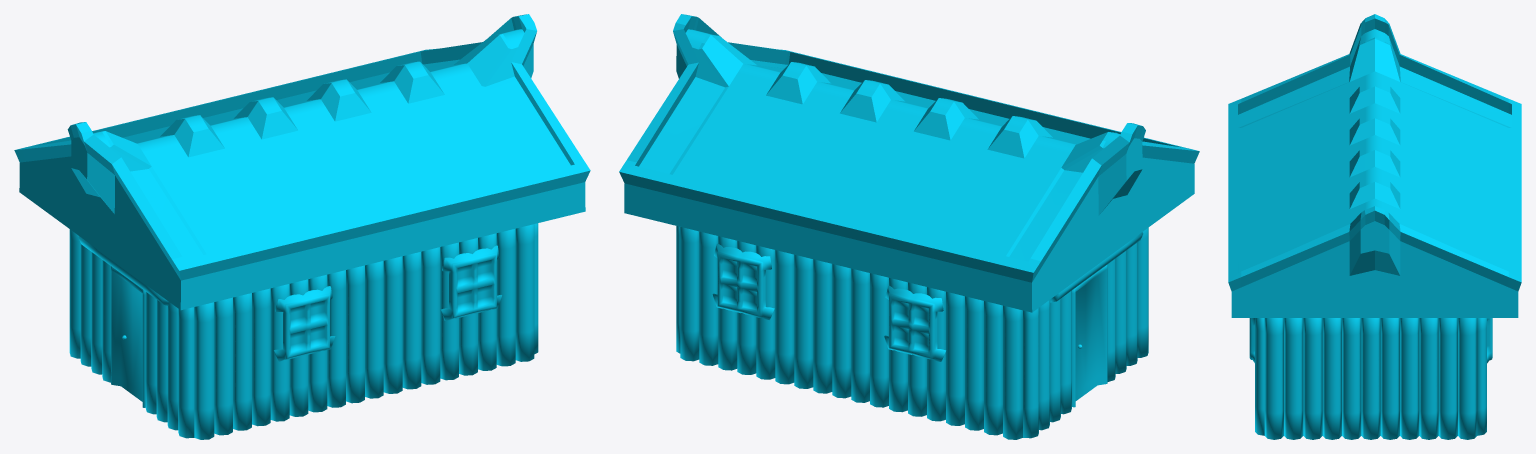
The model's file is LogHouse Final.fbx.
3 renders of one model, left to right at view 1: azimuth 30°, elevation 25°; view 2: azimuth 150°, elevation 25°; view 3: azimuth 270°, elevation 25°, orthographic. The views are drawn at different scales.
Parts seen in each view (by area): view 1: Roof_low, Door_low, Window_low001, Window_low, Beam_low, Beam_low011, Beam_low012, Beam_low017, Beam_low010, Beam_low016, Beam_low009, Beam_low002 (+20 smaller); view 2: Roof_low, Door_low, Window_low002, Window_low003, Beam_low036, Beam_low034, Beam_low029, Beam_low037, Beam_low046, Beam_low035, Beam_low044, Beam_low038 (+20 smaller); view 3: Roof_low, Beam_low018, Beam_low019, Beam_low021, Beam_low022, Beam_low024, Beam_low025, Beam_low027, Beam_low028, Beam_low023, Beam_low026, Beam_low020 (+2 smaller).
Boxes of the visible parts, left/top/right/bottom form: Roof_low: left=14, top=14, right=590, bottom=310; Door_low: left=111, top=266, right=145, bottom=407; Window_low001: left=440, top=245, right=501, bottom=320; Window_low: left=274, top=286, right=335, bottom=361; Beam_low: left=194, top=302, right=214, bottom=439; Beam_low011: left=402, top=252, right=421, bottom=389; Beam_low012: left=421, top=247, right=440, bottom=384; Beam_low017: left=515, top=224, right=534, bottom=361; Beam_low010: left=383, top=256, right=402, bottom=393; Beam_low016: left=496, top=228, right=515, bottom=366; Beam_low009: left=365, top=261, right=383, bottom=398; Beam_low002: left=233, top=293, right=251, bottom=430; Roof_low: left=619, top=14, right=1199, bottom=312; Door_low: left=1072, top=264, right=1107, bottom=407; Window_low002: left=712, top=243, right=774, bottom=319; Window_low003: left=884, top=285, right=945, bottom=361; Beam_low036: left=813, top=259, right=832, bottom=393; Beam_low034: left=775, top=250, right=794, bottom=384; Beam_low029: left=680, top=227, right=699, bottom=361; Beam_low037: left=832, top=264, right=851, bottom=398; Beam_low046: left=1003, top=305, right=1022, bottom=439; Beam_low035: left=794, top=254, right=813, bottom=388; Beam_low044: left=965, top=296, right=983, bottom=430; Beam_low038: left=851, top=268, right=869, bottom=402; Roof_low: left=1228, top=14, right=1521, bottom=317; Beam_low018: left=1264, top=318, right=1283, bottom=439; Beam_low019: left=1284, top=318, right=1303, bottom=439; Beam_low021: left=1322, top=318, right=1341, bottom=439; Beam_low022: left=1342, top=318, right=1361, bottom=439; Beam_low024: left=1380, top=318, right=1399, bottom=439; Beam_low025: left=1400, top=318, right=1419, bottom=439; Beam_low027: left=1438, top=318, right=1457, bottom=439; Beam_low028: left=1458, top=318, right=1477, bottom=439; Beam_low023: left=1361, top=318, right=1380, bottom=439; Beam_low026: left=1419, top=318, right=1438, bottom=439; Beam_low020: left=1303, top=318, right=1322, bottom=439.
Bounding box in the file's own units: 18765 × 11148 × 11832.
